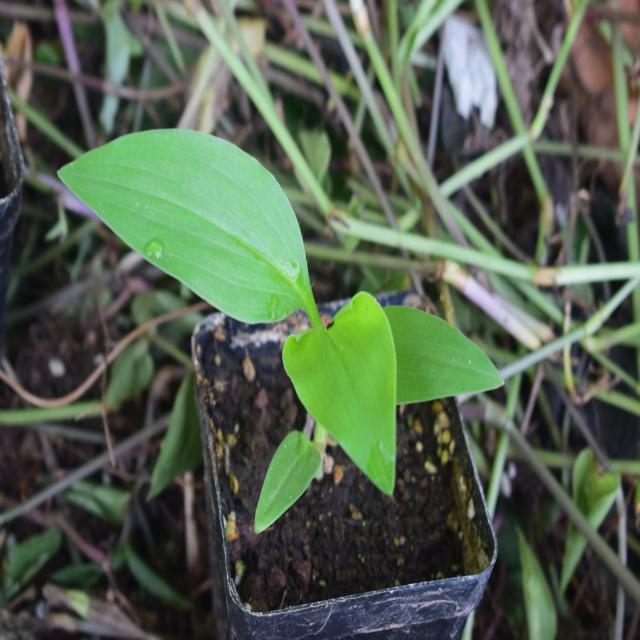Common Dayflower: (73, 120, 519, 520)
